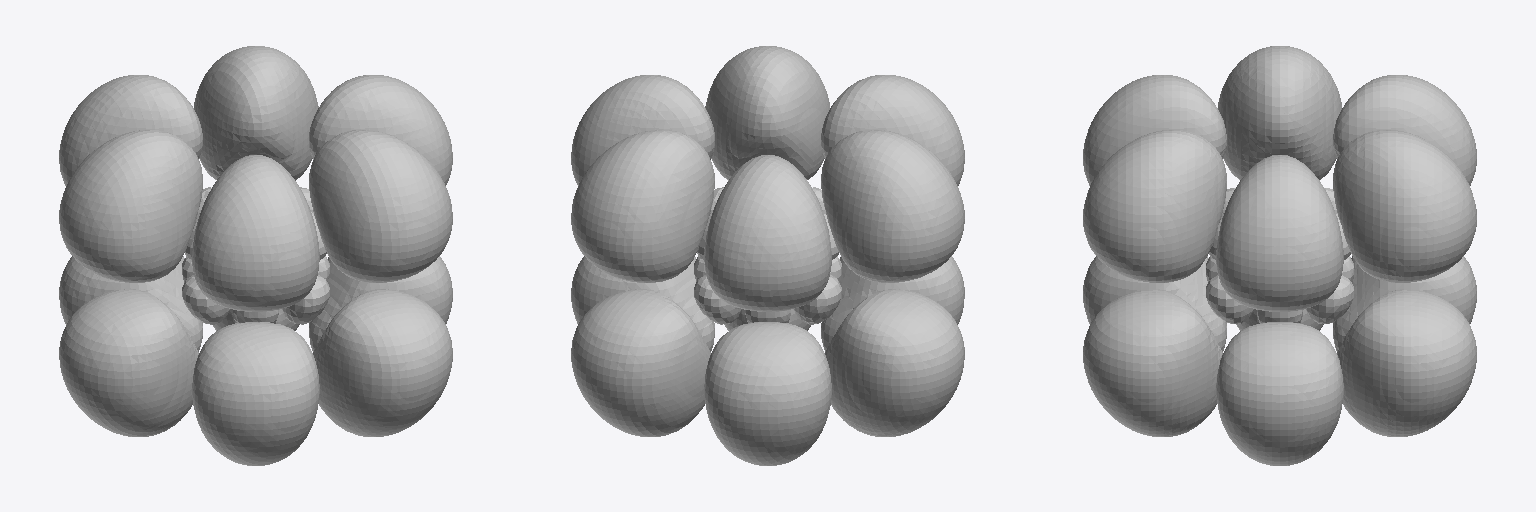
Rendered from orb_n=6_ l=4 _m=3.obj.
3 renders of one model, left to right at view 1: azimuth 30°, elevation 25°; view 2: azimuth 150°, elevation 25°; view 3: azimuth 270°, elevation 25°, orthographic.
Parts seen in each view (by area): view 1: orb_n=6__l=4__m=3; view 2: orb_n=6__l=4__m=3; view 3: orb_n=6__l=4__m=3.
Boxes of the visible parts, x1,y1,x2,y2 form: orb_n=6__l=4__m=3: [59, 46, 452, 465]; orb_n=6__l=4__m=3: [571, 46, 964, 465]; orb_n=6__l=4__m=3: [1083, 46, 1476, 465].
Size of the model in its own units: 134 by 102 by 123.